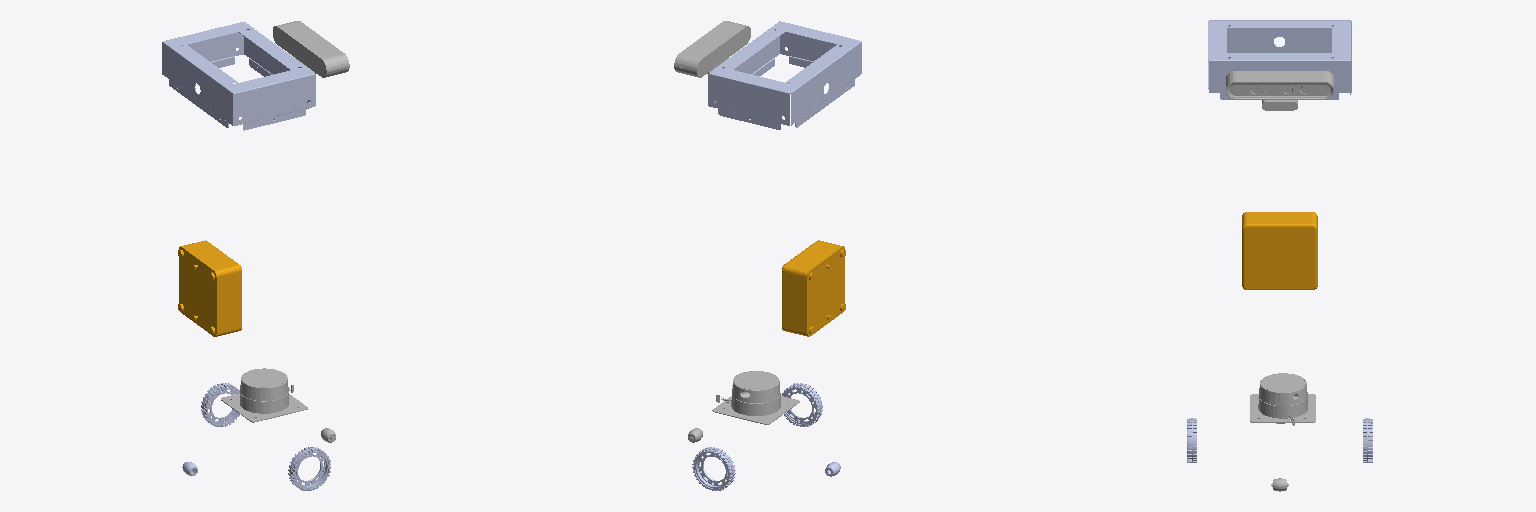
robot.urdf — spark1_description:
<?xml version="1.0" encoding="utf-8"?>
<!-- This URDF was automatically created by SolidWorks to URDF Exporter! Originally created by [author] ([email redacted]) 
     Commit Version: 1.6.0-1-g15f4949  Build Version: 1.6.7594.29634
     For more information, please see http://wiki.ros.org/sw_urdf_exporter -->


<robot
  name="spark1_description">
  <link name="base_footprint"/>
  <link
    name="base_link">
    <inertial>
      <origin
        xyz="0.00072144 -0.00035641 0.033136"
        rpy="0 0 0" />
      <mass
        value="3.12" />
      <inertia
        ixx="0.0062897"
        ixy="-3.2912E-05"
        ixz="2.9941E-05"
        iyy="0.0066505"
        iyz="-2.0973E-06"
        izz="0.012548" />
    </inertial>
    <visual>
      <origin
        xyz="0 0 0"
        rpy="0 0 0" />
      <geometry>
        <mesh
          filename="package://spark1_description/meshes/base_link.STL" />
      </geometry>
      <material
        name="">
        <color
          rgba="0.75294 0.75294 0.75294 1" />
      </material>
    </visual>
    <collision>
      <origin
        xyz="0 0 0"
        rpy="0 0 0" />
      <geometry>
        <mesh
          filename="package://spark1_description/meshes/base_link.STL" />
      </geometry>
    </collision>
  </link>
  <joint name="base_footprint_joint" type="fixed">
       <origin xyz="0 0 0.033136" rpy="0 0 0" />
       <parent link="base_footprint" />
       <child link="base_link" />
  </joint>


  <link
    name="left_wheel_link">
    <inertial>
      <origin
        xyz="-2.923E-09 -0.007882 4.7005E-09"
        rpy="0 0 0" />
      <mass
        value="0.015929" />
      <inertia
        ixx="7.3462E-06"
        ixy="7.0546E-13"
        ixz="2.1869E-12"
        iyy="1.4269E-05"
        iyz="-4.1255E-13"
        izz="7.3462E-06" />
    </inertial>
    <visual>
      <origin
        xyz="0 0 0"
        rpy="0 0 0" />
      <geometry>
        <mesh
          filename="package://spark1_description/meshes/left_wheel_link.STL" />
      </geometry>
      <material
        name="">
        <color
          rgba="0.79216 0.81961 0.93333 1" />
      </material>
    </visual>
    <collision>
      <origin
        xyz="0 0 0"
        rpy="0 0 0" />
      <geometry>
        <mesh
          filename="package://spark1_description/meshes/left_wheel_link.STL" />
      </geometry>
    </collision>
  </link>
  <joint
    name="left_wheel_joint"
    type="continuous">
    <origin
      xyz="-0.0050358 0.1405 0.02385"
      rpy="0 0 0" />
    <parent
      link="base_link" />
    <child
      link="left_wheel_link" />
    <axis
      xyz="0 1 0" />
  </joint>
  <link
    name="right_wheel_link">
    <inertial>
      <origin
        xyz="-1.1884E-08 0.007882 3.1186E-07"
        rpy="0 0 0" />
      <mass
        value="0.01593" />
      <inertia
        ixx="7.3465E-06"
        ixy="-1.0054E-12"
        ixz="3.334E-12"
        iyy="1.427E-05"
        iyz="1.3676E-12"
        izz="7.3465E-06" />
    </inertial>
    <visual>
      <origin
        xyz="0 0 0"
        rpy="0 0 0" />
      <geometry>
        <mesh
          filename="package://spark1_description/meshes/right_wheel_link.STL" />
      </geometry>
      <material
        name="">
        <color
          rgba="0.79216 0.81961 0.93333 1" />
      </material>
    </visual>
    <collision>
      <origin
        xyz="0 0 0"
        rpy="0 0 0" />
      <geometry>
        <mesh
          filename="package://spark1_description/meshes/right_wheel_link.STL" />
      </geometry>
    </collision>
  </link>
  <joint
    name="right_wheel_joint"
    type="continuous">
    <origin
      xyz="-0.0050358 -0.1405 0.02385"
      rpy="0 0 0" />
    <parent
      link="base_link" />
    <child
      link="right_wheel_link" />
    <axis
      xyz="0 1 0" />
  </joint>
  <link
    name="front_wheel_Link">
    <inertial>
      <origin
        xyz="-1.2018E-10 0.010986 1.7444E-10"
        rpy="0 0 0" />
      <mass
        value="0.0050555" />
      <inertia
        ixx="3.1204E-07"
        ixy="4.686E-16"
        ixz="5.9466E-12"
        iyy="2.3622E-07"
        iyz="-6.8184E-16"
        izz="3.121E-07" />
    </inertial>
    <visual>
      <origin
        xyz="0 0 0"
        rpy="0 0 0" />
      <geometry>
        <mesh
          filename="package://spark1_description/meshes/front_wheel_Link.STL" />
      </geometry>
      <material
        name="">
        <color
          rgba="0.75294 0.75294 0.75294 1" />
      </material>
    </visual>
    <collision>
      <origin
        xyz="0 0 0"
        rpy="0 0 0" />
      <geometry>
        <mesh
          filename="package://spark1_description/meshes/front_wheel_Link.STL" />
      </geometry>
    </collision>
  </link>
  <joint
    name="front_wheel_joint"
    type="continuous">
    <origin
      xyz="0.10447 -0.0112 0.0010298"
      rpy="0 0 0" />
    <parent
      link="base_link" />
    <child
      link="front_wheel_Link" />
    <axis
      xyz="0 -1 0" />
  </joint>
  <link
    name="rear_wheel_Link">
    <inertial>
      <origin
        xyz="4.8017E-15 0.011415 -3.4202E-14"
        rpy="0 0 0" />
      <mass
        value="0.0030841" />
      <inertia
        ixx="2.0624E-07"
        ixy="3.5524E-20"
        ixz="1.3621E-11"
        iyy="1.9519E-07"
        iyz="-1.1415E-19"
        izz="2.0613E-07" />
    </inertial>
    <visual>
      <origin
        xyz="0 0 0"
        rpy="0 0 0" />
      <geometry>
        <mesh
          filename="package://spark1_description/meshes/rear_wheel_Link.STL" />
      </geometry>
      <material
        name="">
        <color
          rgba="0.79216 0.81961 0.93333 1" />
      </material>
    </visual>
    <collision>
      <origin
        xyz="0 0 0"
        rpy="0 0 0" />
      <geometry>
        <mesh
          filename="package://spark1_description/meshes/rear_wheel_Link.STL" />
      </geometry>
    </collision>
  </link>
  <joint
    name="rear_wheel_joint"
    type="continuous">
    <origin
      xyz="-0.13753 -0.0102 0.0010294"
      rpy="0 0 0" />
    <parent
      link="base_link" />
    <child
      link="rear_wheel_Link" />
    <axis
      xyz="0 -1 0" />
  </joint>
  <link
    name="lidar_Link">
    <inertial>
      <originF
        xyz="-8.5501E-05 0.005348 0.017372"
        rpy="0 0 0" />
      <mass
        value="0.3" />
      <inertia
        ixx="3.3596E-05"
        ixy="3.2628E-07"
        ixz="-6.6209E-08"
        iyy="3.4521E-05"
        iyz="1.0213E-08"
        izz="6.6207E-05" />
    </inertial>
    <visual>
      <origin
        xyz="0 0 0"
        rpy="0 0 0" />
      <geometry>
        <mesh
          filename="package://spark1_description/meshes/lidar_Link.STL" />
      </geometry>
      <material
        name="">
        <color
          rgba="0.75294 0.75294 0.75294 1" />
      </material>
    </visual>
    <collision>
      <origin
        xyz="0 0 0"
        rpy="0 0 0" />
      <geometry>
        <mesh
          filename="package://spark1_description/meshes/lidar_Link.STL" />
      </geometry>
    </collision>
  </link>
  <joint
    name="lidar_joint"
    type="fixed">
    <origin
      xyz="-0.0047657 0 0.0785"
      rpy="0 0 0" />
    <parent
      link="base_link" />
    <child
      link="lidar_Link" />
    <axis
      xyz="0 0 0" />
  </joint>
  <link name="virtual_lidar_link" />
  <joint name="virtual_lidar_joint"
		type="fixed">
		<origin
      xyz="0 0 0.03"
      rpy="0 0 0" />
		<parent link="lidar_Link" />
		<child link="virtual_lidar_link" />
	</joint>
  <link name="virtual_camera_link" />
  <joint name="virtual_camera_joint"
		type="fixed">
		<origin
      xyz="0 0 0.03"
      rpy="0 0 0" />
		<parent link="camera_Link" />
		<child link="virtual_camera_link" />
	</joint>	
  <link
    name="stack_Link">
    <inertial>
      <origin
        xyz="-0.044551 0.00021893 0.19459"
        rpy="0 0 0" />
      <mass
        value="0.61249" />
      <inertia
        ixx="0.0072644"
        ixy="1.8962E-12"
        ixz="-8.5626E-05"
        iyy="0.0072942"
        iyz="-1.9551E-07"
        izz="0.0020995" />
    </inertial>
    <visual>
      <origin
        xyz="0 0 0"
        rpy="0 0 0" />
      <geometry>
        <mesh
          filename="package://spark1_description/meshes/stack_Link.STL" />
      </geometry>
      <material
        name="">
        <color
          rgba="0.75294 0.75294 0.75294 1" />
      </material>
    </visual>
    <collision>
      <origin
        xyz="0 0 0"
        rpy="0 0 0" />
      <geometry>
        <mesh
          filename="package://spark1_description/meshes/stack_Link.STL" />
      </geometry>
    </collision>
  </link>
  <joint
    name="stack_joint"
    type="fixed">
    <origin
      xyz="-0.0047657 0 0.132"
      rpy="0 0 0" />
    <parent
      link="base_link" />
    <child
      link="stack_Link" />
    <axis
      xyz="0 0 0" />
  </joint>
  <link
    name="manipulator_Link">
    <inertial>
      <origin
        xyz="0.10405 0.00074313 0.081555"
        rpy="0 0 0" />
      <mass
        value="0.0003" />
      <inertia
        ixx="0.00039185"
        ixy="1.7265E-06"
        ixz="9.6826E-06"
        iyy="0.00037756"
        iyz="-2.3579E-07"
        izz="0.00058066" />
    </inertial>
    <visual>
      <origin
        xyz="0 0 0"
        rpy="0 0 0" />
      <geometry>
        <mesh
          filename="package://spark1_description/meshes/manipulator_Link.STL" />
      </geometry>
      <material
        name="">
        <color
          rgba="0.75294 0.75294 0.75294 1" />
      </material>
    </visual>
    <collision>
      <origin
        xyz="0 0 0"
        rpy="0 0 0" />
      <geometry>
        <mesh
          filename="package://spark1_description/meshes/manipulator_Link.STL" />
      </geometry>
    </collision>
  </link>
  <joint
    name="manipulator_joint"
    type="fixed">
    <origin
      xyz="-0.048667 -0.0016526 0"
      rpy="0 0 0" />
    <parent
      link="stack_Link" />
    <child
      link="manipulator_Link" />
    <axis
      xyz="0 0 0" />
  </joint>
  <link
    name="central_controller_Link">
    <inertial>
      <origin
        xyz="0.023349 -3.9465E-17 -5.5511E-17"
        rpy="0 0 0" />
      <mass
        value="0.00064" />
      <inertia
        ixx="0.0012642"
        ixy="6.1091E-19"
        ixz="1.924E-19"
        iyy="0.00072067"
        iyz="-1.8075E-14"
        izz="0.00076485" />
    </inertial>
    <visual>
      <origin
        xyz="0 0 0"
        rpy="0 0 0" />
      <geometry>
        <mesh
          filename="package://spark1_description/meshes/central_controller_Link.STL" />
      </geometry>
      <material
        name="">
        <color
          rgba="0.94118 0.67451 0.11765 1" />
      </material>
    </visual>
    <collision>
      <origin
        xyz="0 0 0"
        rpy="0 0 0" />
      <geometry>
        <mesh
          filename="package://spark1_description/meshes/central_controller_Link.STL" />
      </geometry>
    </collision>
  </link>
  <joint
    name="central_controller_joint"
    type="fixed">
    <origin
      xyz="-0.12059 -0.00025 0.16361"
      rpy="0 0 0" />
    <parent
      link="stack_Link" />
    <child
      link="central_controller_Link" />
    <axis
      xyz="0 0 0" />
  </joint>
  <link
    name="camera_Link">
    <inertial>
      <origin
        xyz="0.0072747 6.2709E-05 0.014459"
        rpy="0 0 0" />
      <mass
        value="0.00032" />
      <inertia
        ixx="0.00041082"
        ixy="9.2737E-08"
        ixz="2.0538E-07"
        iyy="4.7924E-05"
        iyz="2.5746E-10"
        izz="0.0004303" />
    </inertial>
    <visual>
      <origin
        xyz="0 0 0"
        rpy="0 0 0" />
      <geometry>
        <mesh
          filename="package://spark1_description/meshes/camera_Link.STL" />
      </geometry>
      <material
        name="">
        <color
          rgba="0.75294 0.75294 0.75294 1" />
      </material>
    </visual>
    <collision>
      <origin
        xyz="0 0 0"
        rpy="0 0 0" />
      <geometry>
        <mesh
          filename="package://spark1_description/meshes/camera_Link.STL" />
      </geometry>
    </collision>
  </link>
  <joint
    name="camera_joint"
    type="fixed">
    <origin
      xyz="0.068993 0 0.505"
      rpy="0 0 0" />
    <parent
      link="stack_Link" />
    <child
      link="camera_Link" />
    <axis
      xyz="0 0 0" />
  </joint>
  <link
    name="LED_Link">
    <inertial>
      <origin
        xyz="0.00085791 0.00115 0.044468"
        rpy="0 0 0" />
      <mass
        value="0.000106" />
      <inertia
        ixx="0.00043752"
        ixy="7.5593E-10"
        ixz="2.2111E-07"
        iyy="0.00024506"
        iyz="3.8528E-09"
        izz="0.0006236" />
    </inertial>
    <visual>
      <origin
        xyz="0 0 0"
        rpy="0 0 0" />
      <geometry>
        <mesh
          filename="package://spark1_description/meshes/LED_Link.STL" />
      </geometry>
      <material
        name="">
        <color
          rgba="0.79216 0.81961 0.93333 1" />
      </material>
    </visual>
    <collision>
      <origin
        xyz="0 0 0"
        rpy="0 0 0" />
      <geometry>
        <mesh
          filename="package://spark1_description/meshes/LED_Link.STL" />
      </geometry>
    </collision>
  </link>
  <joint
    name="LED_joint"
    type="fixed">
    <origin
      xyz="-0.048667 -0.0016526 0.47086"
      rpy="0 0 0" />
    <parent
      link="stack_Link" />
    <child
      link="LED_Link" />
    <axis
      xyz="0 1 0" />
  </joint>


<!-- add some gazebo plugin -->
<!-- Transmission is important to link the joints and the controller -->
        　　<transmission name="left_wheel_joint_trans">
            　　<type>transmission_interface/SimpleTransmission</type>
            　　<joint name="left_wheel_joint" >
                　　<hardwareInterface>hardware_interface/VelocityJointInterface</hardwareInterface>
            　　</joint>
            　　<actuator name="left_wheel_joint_motor">
                　　<hardwareInterface>hardware_interface/VelocityJointInterface</hardwareInterface>
                　　<mechanicalReduction>1</mechanicalReduction>
            　　</actuator>
        　　</transmission>

<!-- Transmission is important to link the joints and the controller -->
　　<transmission name="right_wheel_joint_trans">
    　　<type>transmission_interface/SimpleTransmission</type>
    　　<joint name="right_wheel_joint" >
        　　<hardwareInterface>hardware_interface/VelocityJointInterface</hardwareInterface>
    　　</joint>
    　　<actuator name="right_wheel_joint_motor">
        　　<hardwareInterface>hardware_interface/VelocityJointInterface</hardwareInterface>
        　　<mechanicalReduction>1</mechanicalReduction>
    　　</actuator>
　　</transmission>


<gazebo reference="rear_wheel_Link">
       <mu1 value="0"/>
       <mu2 value="0"/>
       <kp value="100000000.0"/>
       <kd value="10000.0"/>
      </gazebo>

      <gazebo reference="front_wheel_Link">
       <mu1 value="0"/>
       <mu2 value="0"/>
       <kp value="100000000.0"/>
       <kd value="10000.0"/>
      </gazebo >

<gazebo reference="left_wheel_link">
	    <mu1>10</mu1>
	    <mu2>10</mu2>
	    <kp>100000000.0</kp>
	    <kd>10000.0</kd>
	     <fdir value="1 0 0"/>
	    <minDepth>0.001</minDepth>
	    <maxVel>0.4</maxVel>
	  </gazebo>

 <gazebo reference="right_wheel_link">
    <mu1>10</mu1>
    <mu2>10</mu2>
    <kp>100000000.0</kp>
    <kd>10000.0</kd>
     <fdir value="1 0 0"/>
    <minDepth>0.001</minDepth>
    <maxVel>0.4</maxVel>
  </gazebo>

<gazebo>
         <plugin name="differential_drive_controller" filename="libgazebo_ros_diff_drive.so">
	    <alwaysOn>true</alwaysOn>
	    <updateRate>50</updateRate>
	    <leftJoint>left_wheel_joint</leftJoint>
    	<rightJoint>right_wheel_joint</rightJoint>
	    <wheelSeparation>0.281</wheelSeparation>
	    <wheelDiameter>0.068</wheelDiameter>
	    <torque>0.1</torque>
	    <wheelAcceleration>1</wheelAcceleration>
	    <commandTopic>cmd_vel</commandTopic>
	    <odometryTopic>odom</odometryTopic>
	    <odometryFrame>odom</odometryFrame>
	    <robotBaseFrame>base_footprint</robotBaseFrame>
	    <publishWheelJointState>true</publishWheelJointState>
	    <legacyMode>true</legacyMode>
	  </plugin>
	</gazebo>
	
	
	

	
	
 <gazebo reference="virtual_camera_link">
            <sensor type="depth" name="camera_node">
                <update_rate>30.0</update_rate>
                <camera name="head">
                    <horizontal_fov>1.3962634</horizontal_fov>
                    <image>
                        <width>640</width>
                        <height>480</height>
                        <format>R8G8B8</format>
                    </image>
                    <clip>
                        <near>0.02</near>
                        <far>300</far>
                    </clip>
                    <noise>
                        <type>gaussian</type>
                        <mean>0.0</mean>
                        <stddev>0.007</stddev>
                    </noise>
                </camera>
                
                  <plugin name="virtual_camera_controller" filename="libgazebo_ros_camera.so">
                  
    <baseline>0.2</baseline>
    <alwaysOn>true</alwaysOn>
    <updateRate>1.0</updateRate>
    <cameraName>camera_name_ir</cameraName>
    <imageTopicName>/camera_name/depth/image_raw</imageTopicName>
    <cameraInfoTopicName>/camera_name/depth/camera_info</cameraInfoTopicName>
    <depthImageTopicName>/camera_name/depth/image_raw</depthImageTopicName>
    <depthImageInfoTopicName>/camera_name/depth/camera_info</depthImageInfoTopicName>
    <pointCloudTopicName>/camera_name/depth/points</pointCloudTopicName>
    <frameName>virtual_camera_frame</frameName>
    <pointCloudCutoff>0.5</pointCloudCutoff>
    <distortionK1>0.00000001</distortionK1>
    <distortionK2>0.00000001</distortionK2>
    <distortionK3>0.00000001</distortionK3>
    <distortionT1>0.00000001</distortionT1>
    <distortionT2>0.00000001</distortionT2>
    <CxPrime>0</CxPrime>
    <Cx>0</Cx>
    <Cy>0</Cy>
    <focalLength>0</focalLength>
    <hackBaseline>0</hackBaseline>
  </plugin>
                
                
            </sensor>
        </gazebo>


<gazebo reference="virtual_lidar_link">
		<sensor type="ray" name="laser_sensor">
			<pose>0 0 0.03 0 0 0</pose>
			<visualize>true</visualize>
			<update_rate>40</update_rate>
			<ray>
				<scan>
					<horizontal>
						<samples>3600</samples>
						<resolution>1</resolution>
						<min_angle>0</min_angle>
						<max_angle>6.283124</max_angle>
					</horizontal>
				</scan>
				<range>
					<min>0.042</min>
					<max>5</max>
					<resolution>0.01</resolution>
				</range>
				<noise>
					<type>gaussian</type>
					<mean>0.0</mean>
					<stddev>0.01</stddev>
				</noise>
			</ray>

			<!-- plugin name="gazebo_ros_head_hokuyo_controller" filename="libgazebo_ros_laser.so" -->
			<plugin name="gazebo_ros_spark_laser" filename="libgazebo_ros_laser.so">
				<topicName>laser/scan</topicName>
				<frameName>virtual_lidar_link</frameName>
			</plugin>
		</sensor>
	</gazebo>
</robot>

--- Render facts (derived) ---
The picture shows the robot from 3 angles, left to right: view 1: azimuth 30°, elevation 25°; view 2: azimuth 150°, elevation 25°; view 3: azimuth 270°, elevation 25°; orthographic projection.
Robot: spark1_description — 14 links, 13 joints (4 continuous, 9 fixed); root link base_footprint; default pose: every joint at zero.
Links seen in each view (by area): view 1: LED_Link, central_controller_Link, lidar_Link, camera_Link, right_wheel_link, left_wheel_link; view 2: LED_Link, central_controller_Link, lidar_Link, camera_Link, left_wheel_link, right_wheel_link; view 3: LED_Link, central_controller_Link, camera_Link, lidar_Link.
Link boxes in pixels (<box>): LED_Link: <box>162,22,315,130</box>; central_controller_Link: <box>178,240,241,336</box>; lidar_Link: <box>221,368,307,422</box>; camera_Link: <box>273,21,349,77</box>; right_wheel_link: <box>288,447,330,490</box>; left_wheel_link: <box>201,383,239,426</box>; LED_Link: <box>708,21,861,129</box>; central_controller_Link: <box>782,240,845,336</box>; lidar_Link: <box>712,371,799,424</box>; camera_Link: <box>674,21,750,77</box>; left_wheel_link: <box>692,447,735,490</box>; right_wheel_link: <box>781,383,822,426</box>; LED_Link: <box>1208,20,1351,99</box>; central_controller_Link: <box>1242,212,1317,289</box>; camera_Link: <box>1226,71,1333,110</box>; lidar_Link: <box>1250,373,1315,425</box>.
Size in the robot's own frame: 0.262 by 0.281 by 0.682 metres.
8 mesh visuals loaded from 11 distinct referenced files (8 binary STL); not drawn: 3 (reference not matched to a file when rendering).
